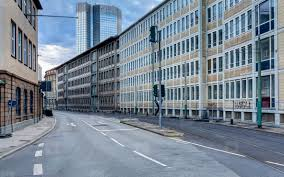strada: (4, 118, 280, 175)
